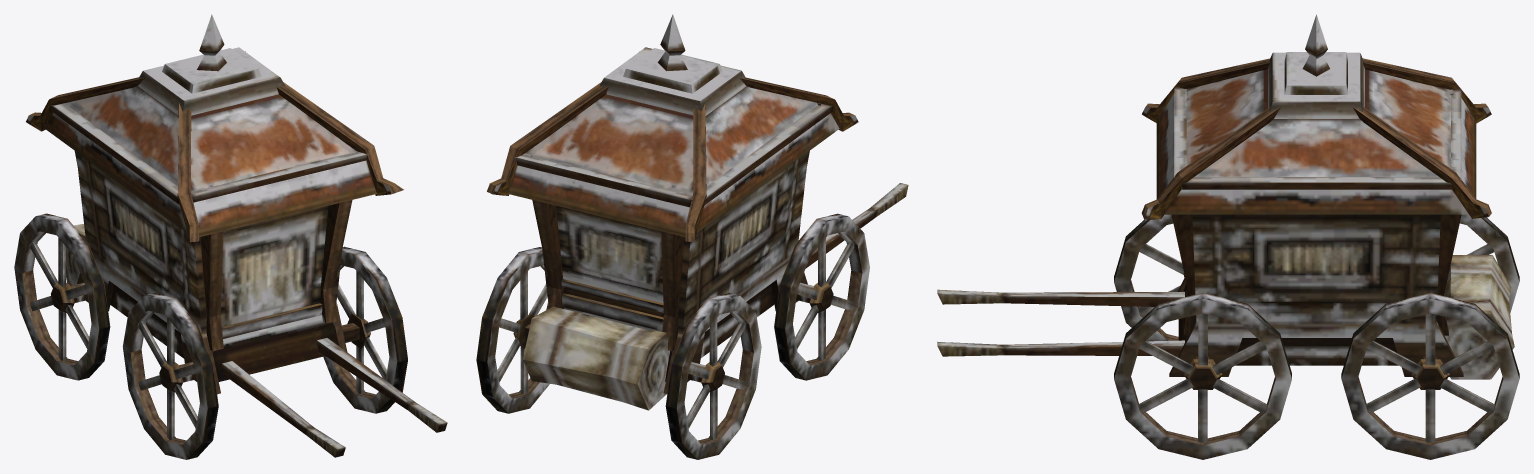
Rendered from general_obj_carriage.glb.
The picture shows the model from 3 angles, left to right: view 1: azimuth 30°, elevation 25°; view 2: azimuth 150°, elevation 25°; view 3: azimuth 270°, elevation 25°; orthographic projection. The views are drawn at different scales.
Parts seen in each view (by area): view 1: Object01; view 2: Object01; view 3: Object01.
Boxes of the visible parts, x1,y1,x2,y2 form: Object01: (14,14,447,459); Object01: (476,14,908,459); Object01: (937,14,1519,459).
Size of the model in its own units: 2.58 by 4.33 by 5.78.
Materials: 1 (1 with a texture image).
